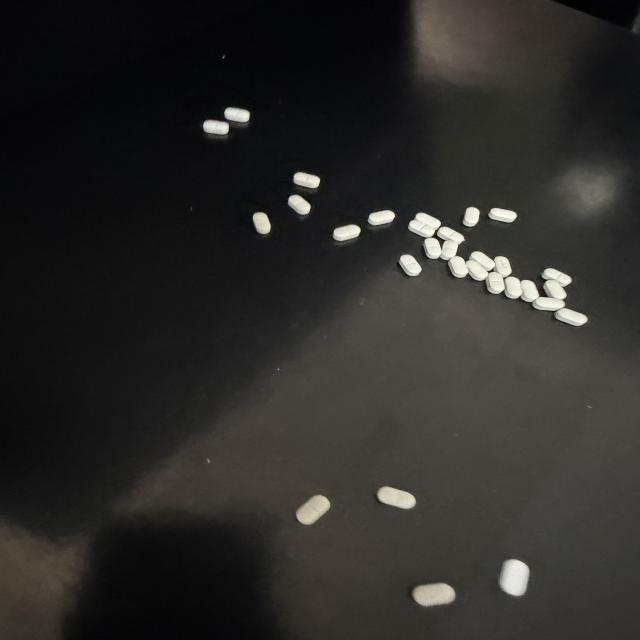pill: (499, 559, 529, 596), (296, 494, 330, 525), (412, 583, 455, 606), (377, 487, 416, 509), (555, 308, 587, 326), (542, 268, 571, 286), (470, 251, 495, 271), (399, 255, 421, 276), (288, 195, 311, 215), (533, 297, 565, 311), (438, 227, 464, 244), (333, 225, 360, 241), (409, 220, 434, 237), (467, 260, 488, 280), (544, 280, 566, 299), (449, 256, 468, 278), (294, 172, 320, 188), (368, 210, 395, 225), (224, 107, 249, 123), (416, 213, 441, 229), (521, 280, 539, 302), (203, 120, 229, 135), (486, 272, 504, 293), (489, 208, 516, 222), (253, 212, 270, 234), (505, 277, 522, 299), (424, 238, 441, 259), (494, 257, 511, 277), (441, 240, 458, 260), (463, 207, 479, 226)
